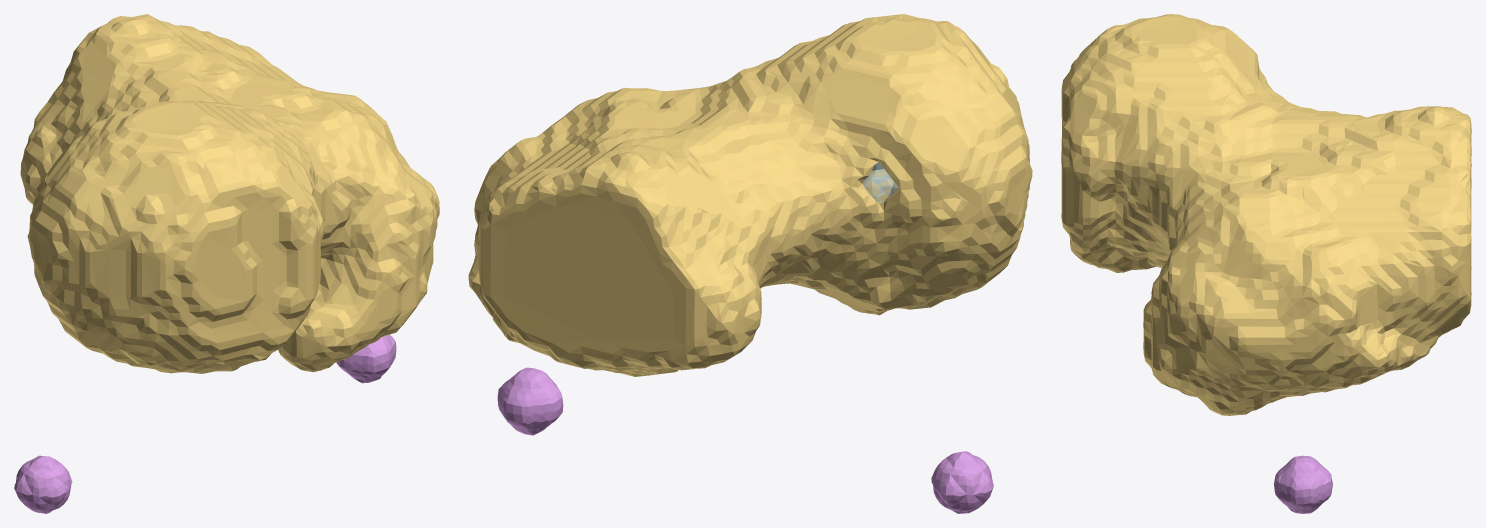
The model's file is prompt.glb.
The picture shows the model from 3 angles, left to right: view 1: azimuth 30°, elevation 25°; view 2: azimuth 150°, elevation 25°; view 3: azimuth 270°, elevation 25°; orthographic projection. The views are drawn at different scales.
Parts seen in each view (by area): view 1: world; view 2: world; view 3: world.
Part boxes in pixels (<box>): world: <box>14,14,439,513</box>; world: <box>468,14,1032,513</box>; world: <box>1061,14,1471,513</box>.
Bounding box in the file's own units: 0.8787 × 0.7842 × 0.7842.
